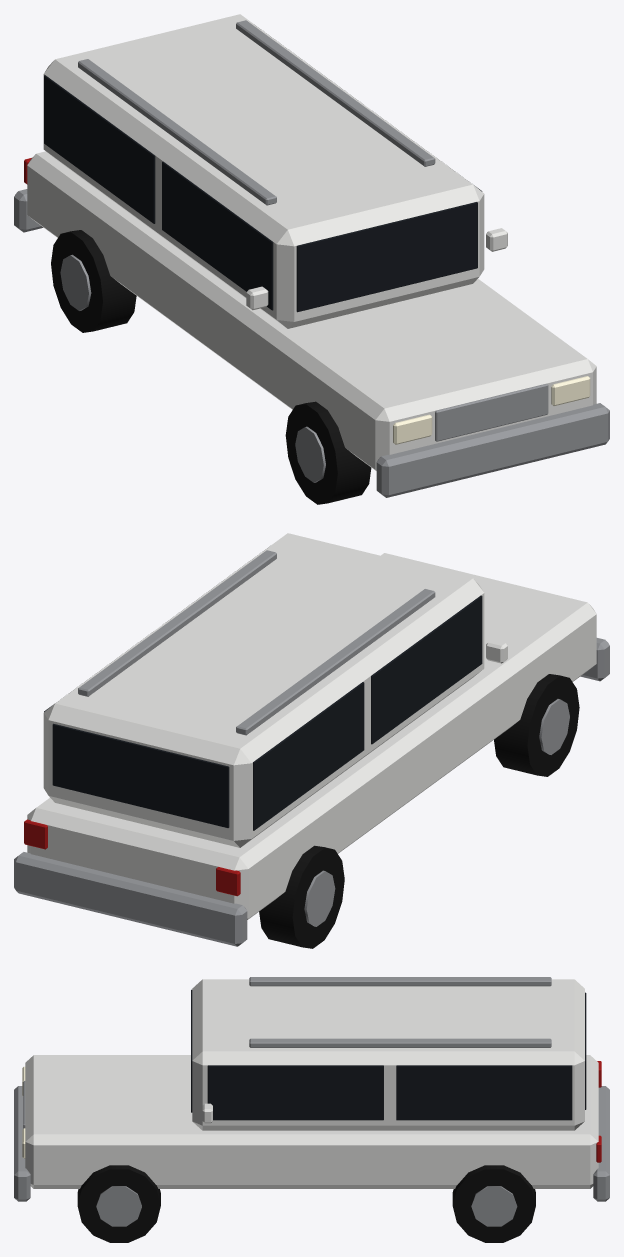
Rendered from suv_white.dae.
The picture shows the model from 3 angles, top to bottom: view 1: azimuth 30°, elevation 25°; view 2: azimuth 150°, elevation 25°; view 3: azimuth 270°, elevation 25°; orthographic projection. The views are drawn at different scales.
Parts seen in each view (by area): view 1: marker; view 2: marker; view 3: marker.
Part boxes in pixels (x1=…): marker: x1=14, y1=14, x2=609, y2=504; marker: x1=14, y1=533, x2=609, y2=948; marker: x1=14, y1=977, x2=609, y2=1242.
Bounding box in the file's own units: 2.28 × 5.72 × 1.97.
Materials: 1 (1 with a texture image).
